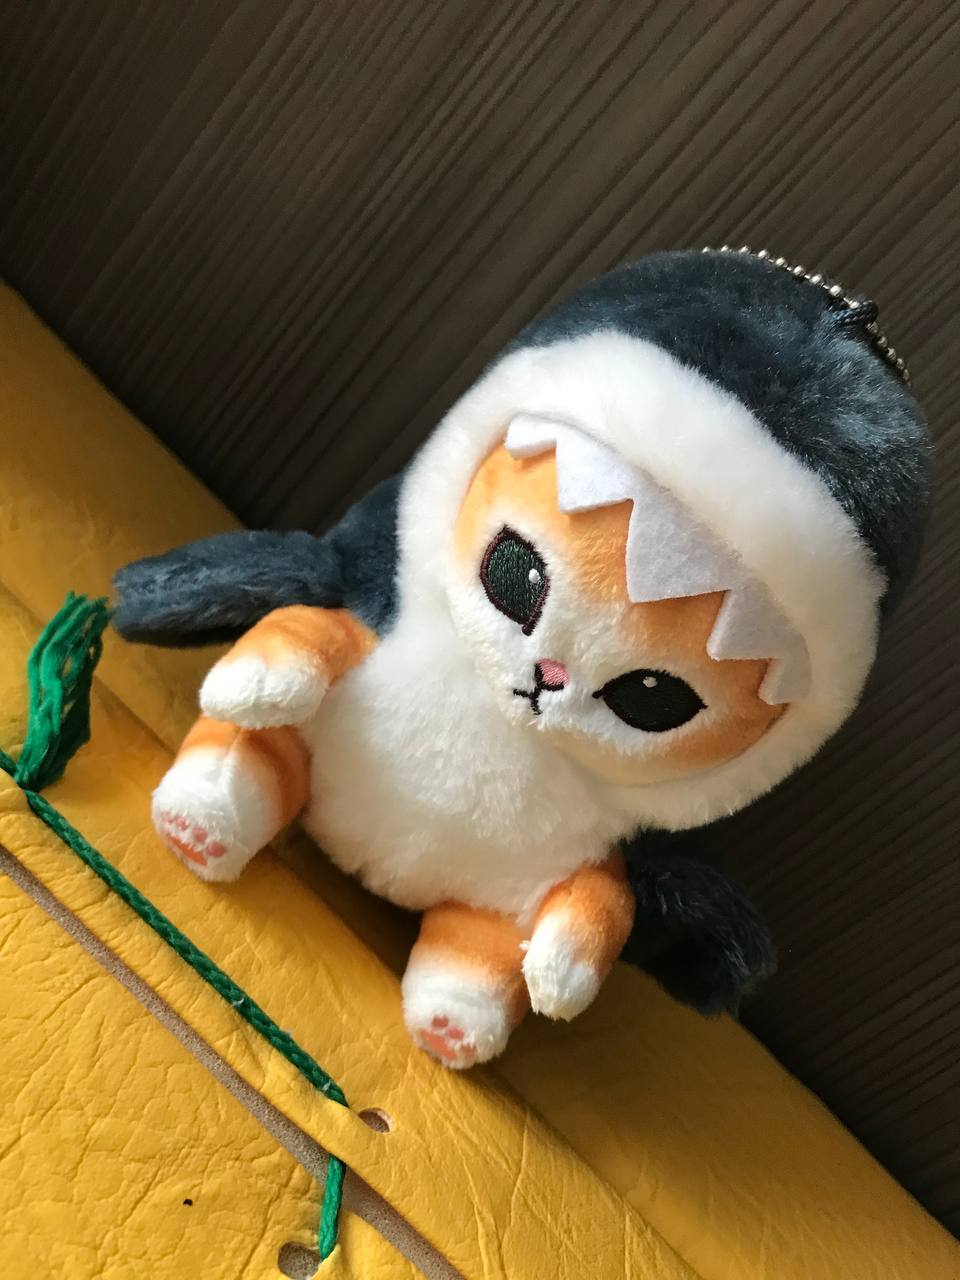cat_shark: (108, 238, 947, 1073)
